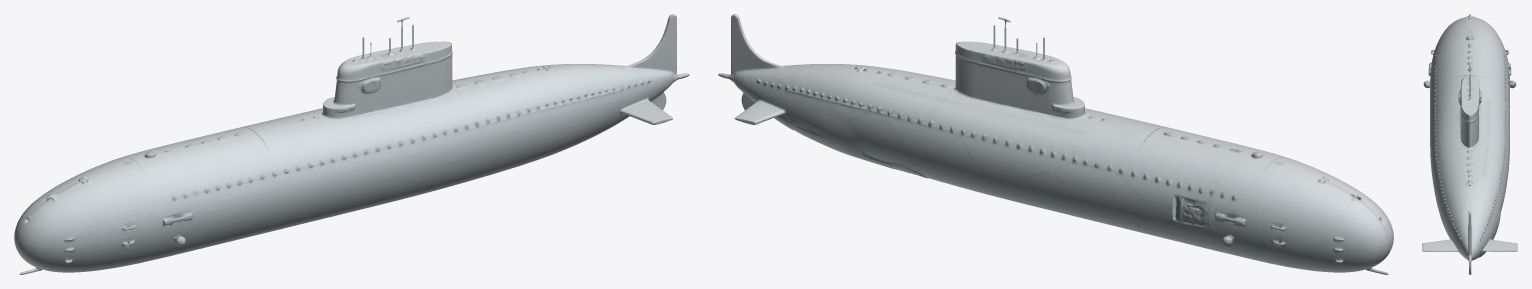
File: knight_white.glb
3 renders of one model, left to right at view 1: azimuth 30°, elevation 25°; view 2: azimuth 150°, elevation 25°; view 3: azimuth 270°, elevation 25°, orthographic. The views are drawn at different scales.
Parts seen in each view (by area): view 1: mesh_node; view 2: mesh_node; view 3: mesh_node.
Boxes of the visible parts, x1,y1,x2,y2 form: mesh_node: (14,14,689,274); mesh_node: (718,14,1393,274); mesh_node: (1422,14,1517,274).
Bounding box in the file's own units: 1.9 × 0.4757 × 0.3259.
Materials: 1 (1 with a texture image).
